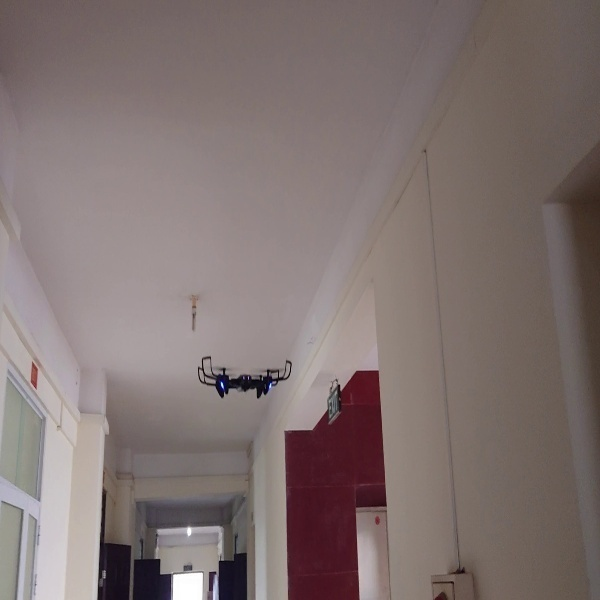drone: (196, 344, 293, 403)
